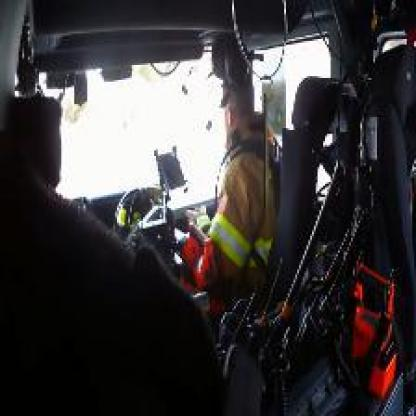other: (348, 250, 398, 395), (171, 225, 228, 299)
